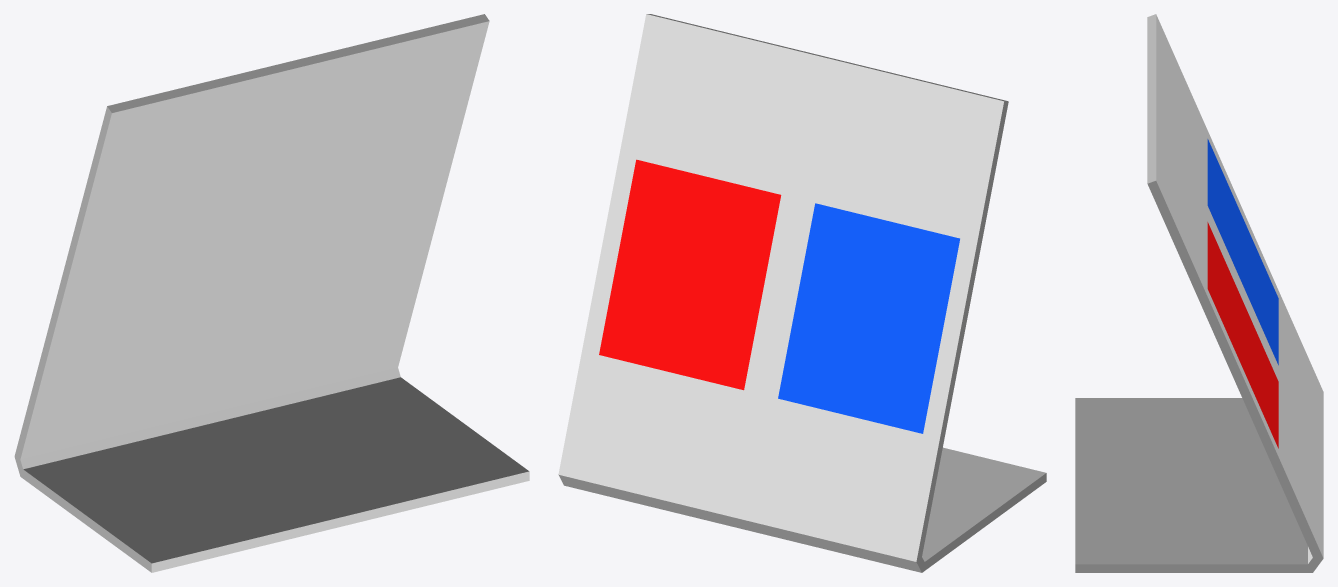
Rendered from Scan to Pay.fbx.
3 views of the same model, side by side, from view 1: azimuth 30°, elevation 25°; view 2: azimuth 150°, elevation 25°; view 3: azimuth 270°, elevation 25° (orthographic). The views are drawn at different scales.
Visible parts, largest first — view 1: Node 0; view 2: Node 0; view 3: Node 0.
Boxes of the visible parts, left/top/right/bottom form: Node 0: left=14, top=14, right=529, bottom=572; Node 0: left=558, top=14, right=1046, bottom=572; Node 0: left=1075, top=14, right=1323, bottom=572.
Bounding box in the file's own units: 0.068 × 0.1186 × 0.1079.
